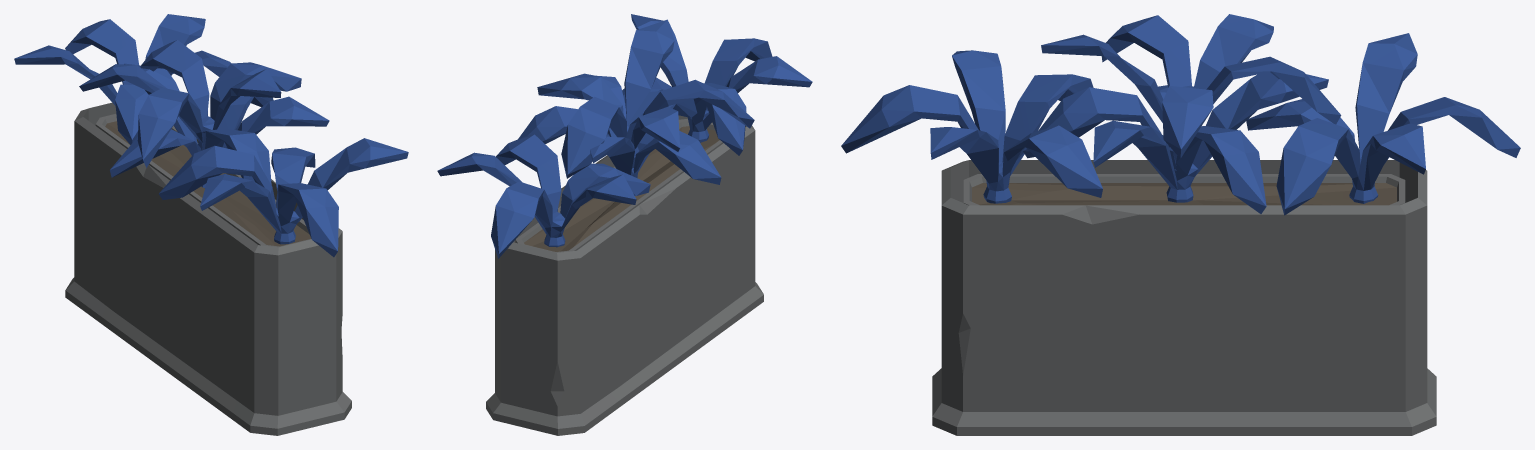
The model's file is PlazaPlants_01.fbx.
3 views of the same model, side by side, from view 1: azimuth 30°, elevation 25°; view 2: azimuth 150°, elevation 25°; view 3: azimuth 270°, elevation 25° (orthographic). The views are drawn at different scales.
Parts seen in each view (by area): view 1: PlazaPlants_01; view 2: PlazaPlants_01; view 3: PlazaPlants_01.
Boxes of the visible parts, x1=… form: PlazaPlants_01: x1=14, y1=14, x2=408, y2=435; PlazaPlants_01: x1=437, y1=14, x2=812, y2=435; PlazaPlants_01: x1=841, y1=14, x2=1520, y2=435.
Bounding box in the file's own units: 93.07 × 135 × 222.
